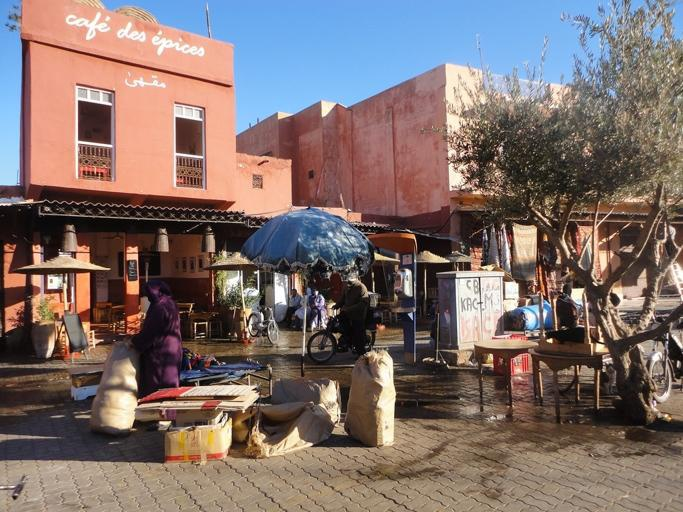non-vehicle: (306, 305, 376, 362), (644, 312, 683, 404), (245, 301, 283, 344)
